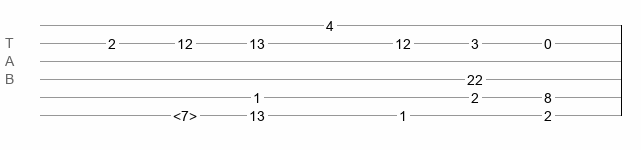0: (544, 36, 552, 46)
1: (253, 90, 261, 100), (399, 108, 407, 118)
12: (177, 36, 193, 46), (395, 36, 411, 46)
13: (249, 36, 265, 46), (249, 108, 265, 118)
2: (108, 36, 116, 46), (471, 90, 479, 100), (544, 108, 552, 118)
22: (467, 72, 483, 82)
3: (471, 36, 479, 46)
4: (326, 18, 334, 28)
8: (544, 90, 552, 100)
harmonic: (173, 108, 197, 118)
